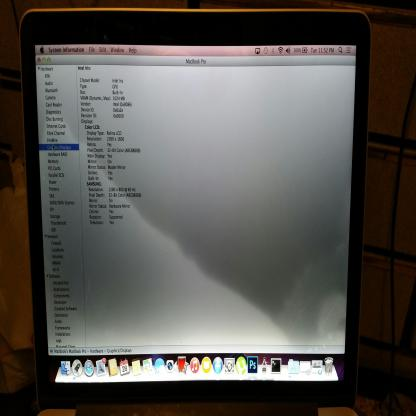fade: (37, 48, 355, 359)
